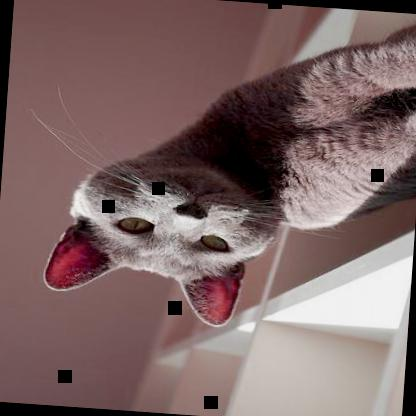cat: (40, 0, 415, 342)
